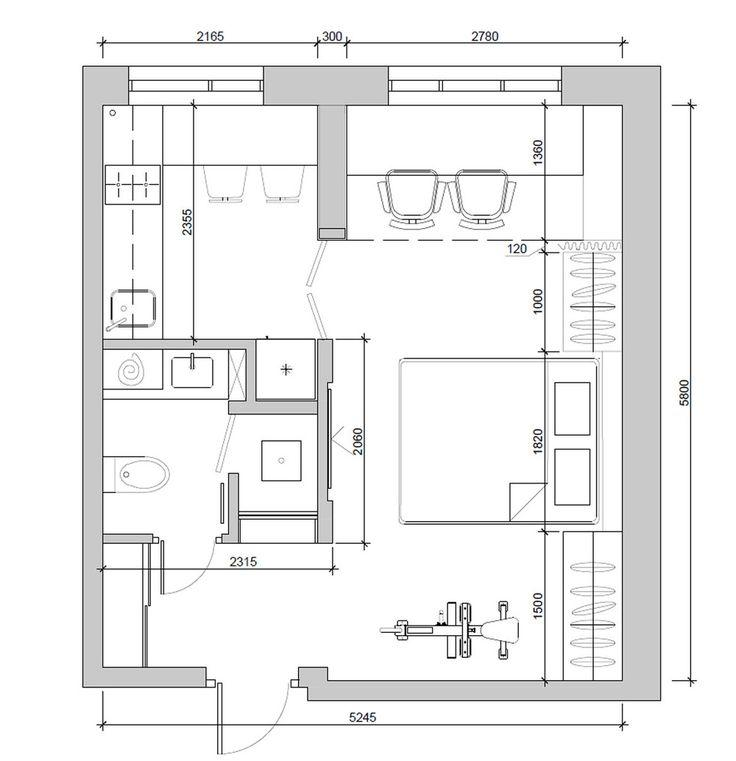bathroom: (102, 350, 317, 534)
bedroom: (330, 106, 623, 683)
hallway: (103, 542, 332, 670)
kitchen: (103, 104, 320, 339)
